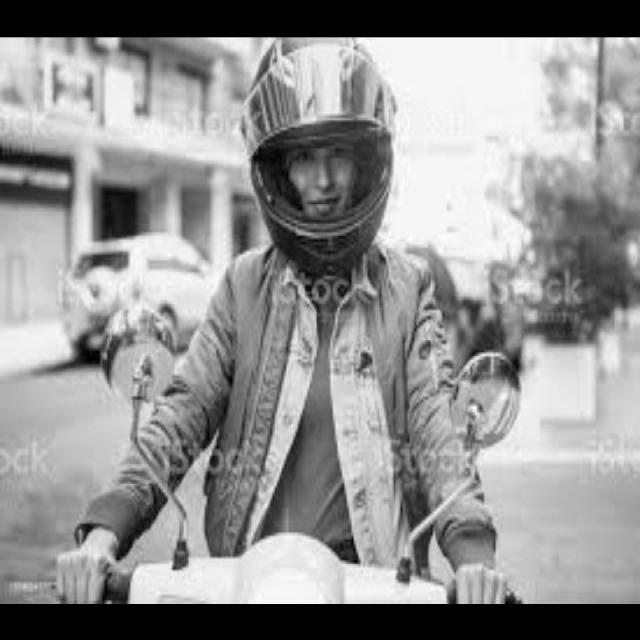5_casco: (240, 40, 408, 276)
